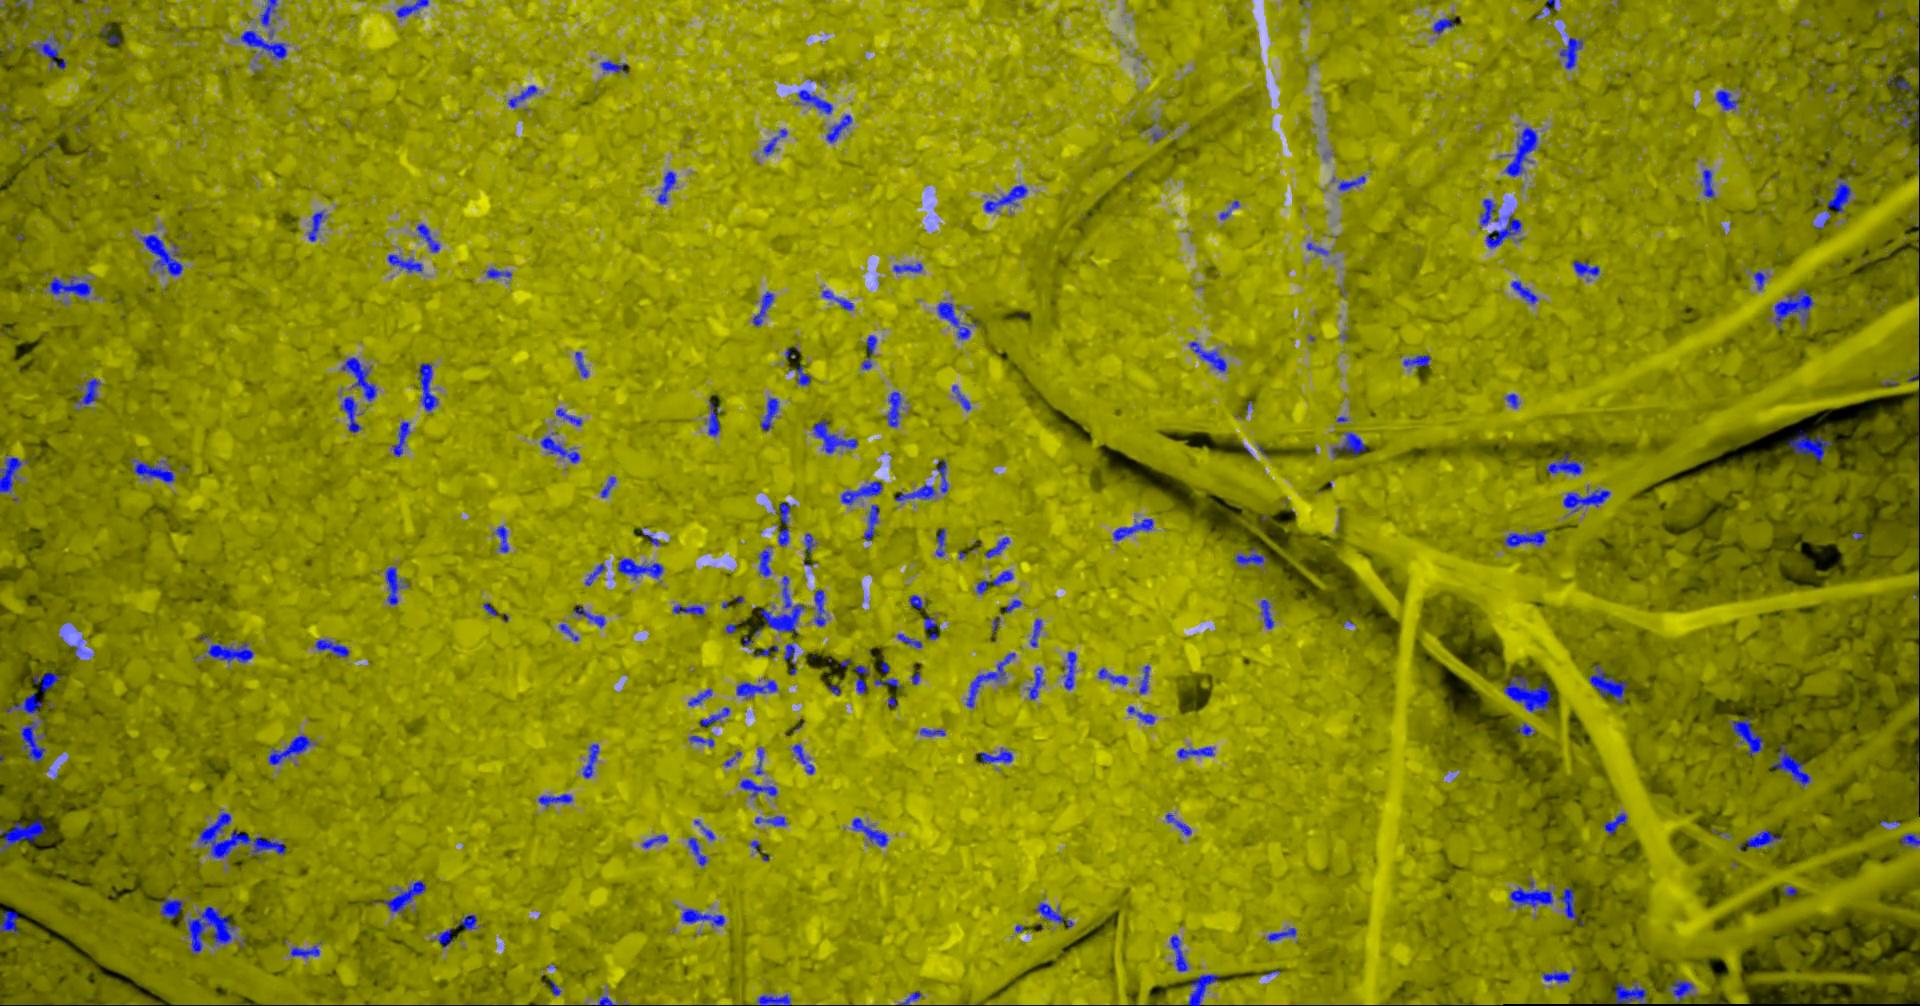ant: (965, 652, 1015, 708), (759, 575, 804, 633), (1498, 126, 1537, 177), (1813, 177, 1851, 227), (138, 234, 183, 276), (1503, 674, 1550, 711), (1770, 744, 1810, 788), (1774, 288, 1813, 329), (936, 302, 979, 339), (0, 817, 44, 852), (811, 419, 857, 453), (342, 357, 376, 401), (1787, 429, 1831, 461), (1589, 666, 1627, 702), (383, 880, 425, 912), (240, 30, 286, 58), (1484, 213, 1521, 248), (1730, 716, 1763, 754), (983, 184, 1027, 212), (268, 735, 312, 763), (538, 434, 579, 464), (1189, 340, 1225, 372), (32, 36, 66, 69), (1562, 489, 1610, 512), (1509, 880, 1552, 906), (851, 817, 888, 846), (841, 480, 883, 506), (19, 721, 44, 762), (130, 459, 174, 481), (1035, 902, 1073, 929), (1888, 97, 1919, 130), (1186, 974, 1219, 1005), (0, 456, 28, 492), (617, 558, 663, 579), (1331, 431, 1366, 457), (419, 362, 438, 412), (207, 641, 253, 662), (385, 567, 409, 605), (795, 89, 832, 113), (47, 276, 90, 296), (1112, 518, 1153, 540), (975, 570, 1013, 593), (1545, 452, 1582, 475), (5, 694, 41, 716), (735, 680, 777, 699), (1614, 981, 1647, 1005), (752, 291, 773, 326), (1503, 528, 1547, 546), (571, 605, 604, 627), (1559, 37, 1582, 69), (340, 396, 361, 432), (681, 908, 724, 925), (825, 114, 851, 142), (75, 377, 100, 405), (1170, 934, 1189, 970), (507, 85, 537, 108), (762, 128, 787, 155), (777, 502, 792, 546), (739, 779, 777, 796), (1746, 829, 1782, 848), (894, 484, 935, 500), (792, 743, 814, 774), (884, 391, 903, 426), (822, 290, 853, 310), (1510, 279, 1537, 304), (417, 224, 439, 251), (386, 254, 422, 272), (391, 420, 409, 456), (657, 170, 676, 203), (759, 398, 778, 431), (1558, 887, 1577, 920), (1164, 812, 1191, 835), (32, 672, 61, 692), (1026, 666, 1044, 699), (582, 743, 598, 779), (698, 708, 729, 727), (687, 837, 707, 865), (314, 639, 348, 655), (1233, 547, 1265, 565), (984, 536, 1010, 558), (159, 898, 184, 920), (1669, 979, 1694, 1001), (395, 0, 428, 17), (979, 747, 1012, 763), (1886, 72, 1912, 93), (861, 334, 876, 370), (862, 504, 877, 540), (1097, 667, 1128, 685), (1126, 705, 1154, 724), (1603, 812, 1625, 835), (1062, 652, 1076, 688), (951, 384, 970, 410), (555, 406, 582, 426), (1432, 17, 1460, 34), (1716, 89, 1738, 111), (307, 210, 323, 241), (537, 793, 571, 807), (813, 589, 825, 626), (1176, 746, 1213, 758), (584, 563, 604, 586), (259, 0, 277, 25), (706, 400, 719, 436), (789, 365, 810, 385), (430, 927, 452, 948), (0, 909, 18, 934), (1337, 175, 1365, 191), (1479, 198, 1495, 226), (936, 459, 949, 492), (693, 819, 714, 840), (1218, 199, 1239, 218), (855, 664, 869, 694), (1572, 260, 1599, 276), (783, 643, 796, 674), (687, 688, 711, 705), (757, 547, 771, 575), (574, 351, 588, 377), (1266, 927, 1295, 940), (557, 622, 578, 640), (599, 60, 627, 72), (1702, 169, 1714, 197), (495, 525, 508, 553), (1260, 600, 1272, 627), (1029, 619, 1041, 647), (1542, 970, 1570, 983), (923, 616, 938, 639), (757, 995, 791, 1005), (100, 25, 119, 43), (897, 633, 921, 647), (670, 605, 703, 615), (290, 945, 319, 956), (754, 815, 786, 826), (641, 835, 667, 847), (1402, 354, 1430, 366), (1511, 721, 1534, 735), (898, 991, 921, 1005), (599, 476, 615, 497), (935, 527, 945, 556), (872, 678, 902, 688), (1305, 243, 1328, 255), (1752, 271, 1768, 290), (753, 644, 778, 655), (1139, 666, 1149, 694), (486, 267, 510, 278), (688, 735, 712, 747), (891, 263, 922, 272), (908, 594, 927, 608), (457, 915, 476, 929), (754, 746, 763, 774), (804, 533, 817, 553), (1900, 833, 1919, 846), (919, 727, 945, 735), (1505, 392, 1519, 408), (1004, 600, 1021, 612), (598, 995, 616, 1005), (1783, 887, 1797, 895), (1917, 495, 1919, 559)
